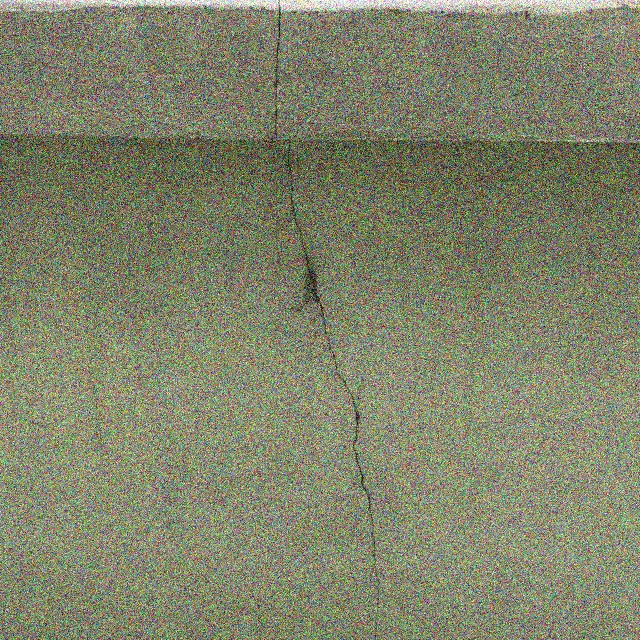SurfaceCrack: (261, 142, 406, 640)
